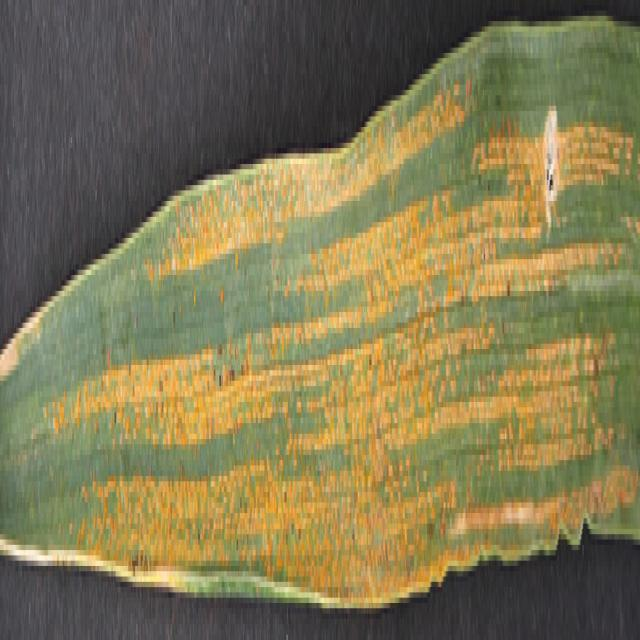leaf rust: (47, 32, 640, 608)
